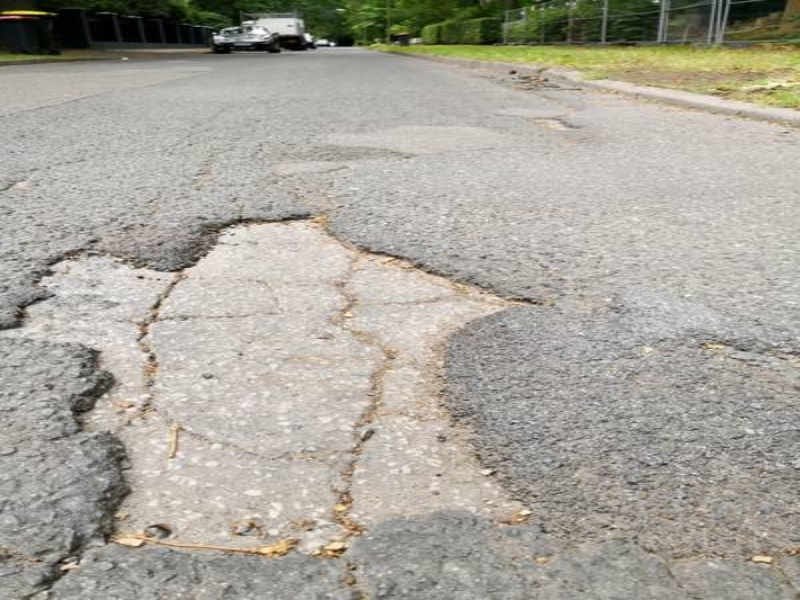pothole: (5, 210, 553, 560)
